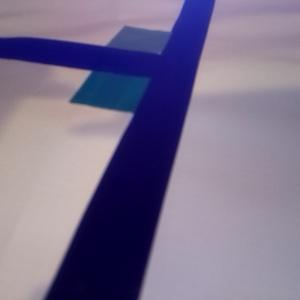bottom_left: (69, 55, 185, 113)
top_left: (105, 24, 195, 69)
